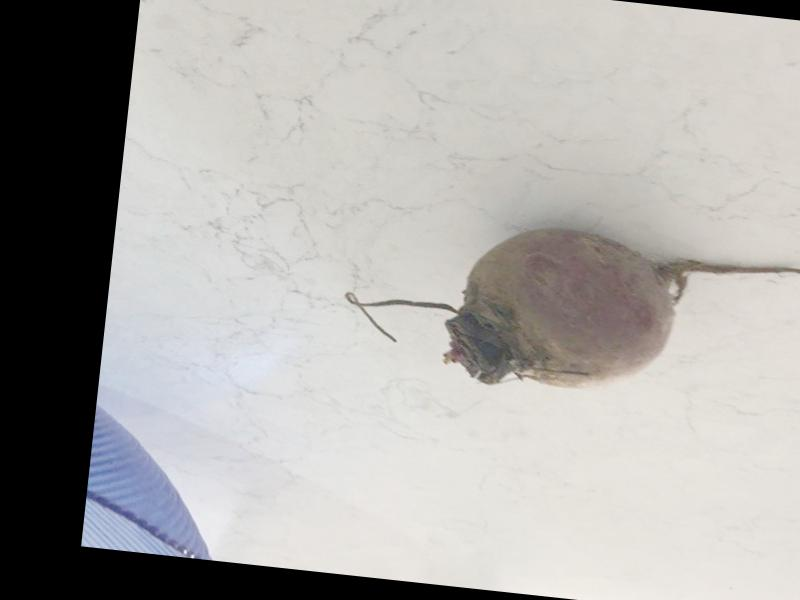Beet: (338, 207, 800, 420)
